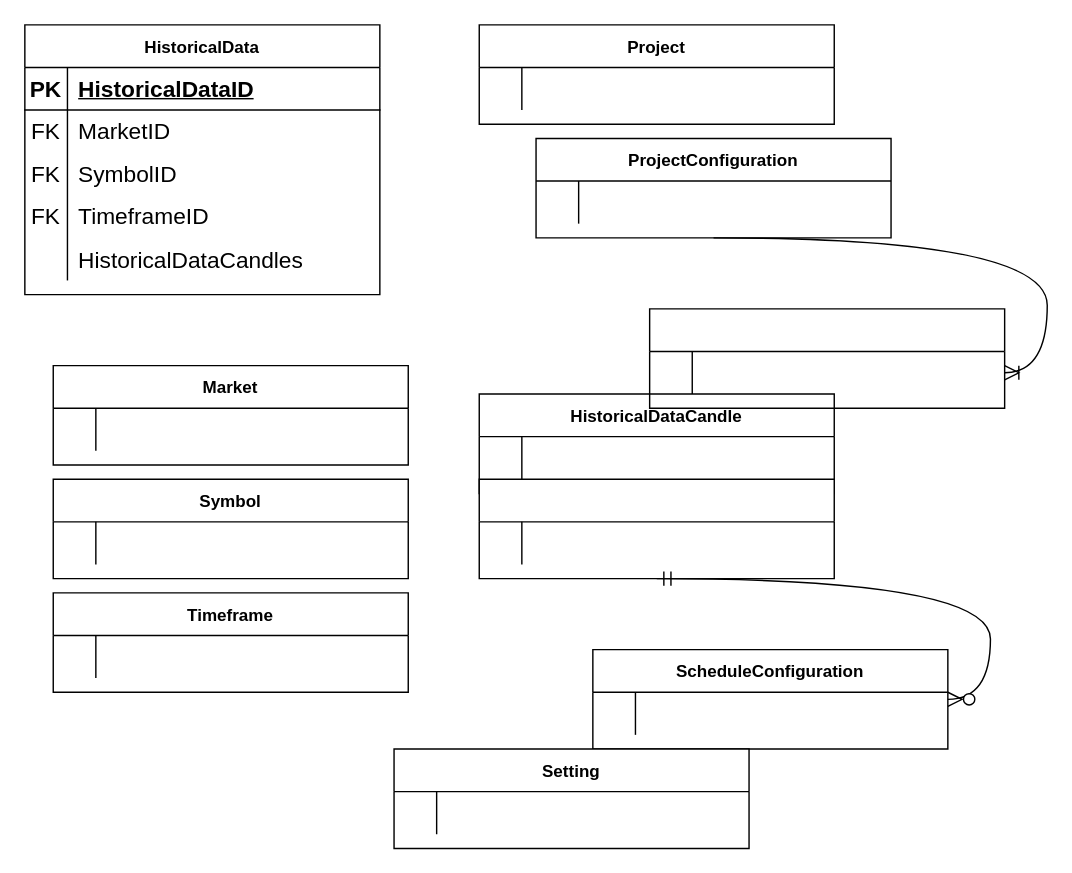
Image size: 1072x873. Some labels were removed from this diagram. The shapes that lost their labels are listed below. From the top down, each one's box as (x1, y1, x2, y2) in pixels, then its label:
(648, 307, 1005, 408): ProjectScheduleConfiguration
(478, 478, 834, 579): Configuration
